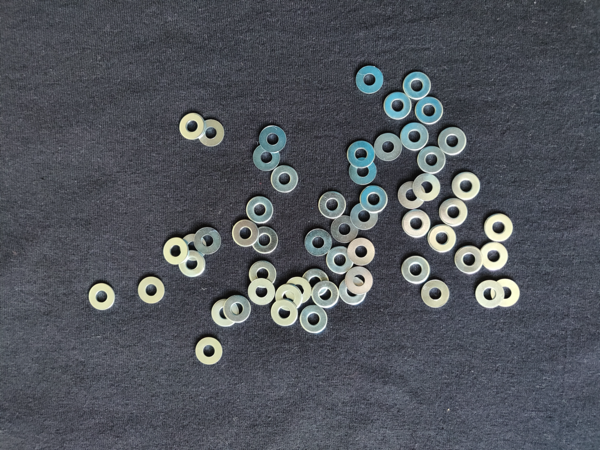circle: (351, 63, 385, 94), (483, 212, 515, 244), (269, 163, 300, 195), (401, 254, 433, 285), (250, 142, 283, 172), (372, 132, 405, 162), (383, 92, 414, 123), (193, 334, 223, 366), (401, 71, 433, 101), (209, 298, 239, 329), (438, 127, 468, 158), (417, 146, 448, 176), (451, 173, 482, 203), (398, 180, 428, 211), (401, 209, 431, 240), (426, 224, 457, 254), (478, 242, 509, 272), (475, 280, 506, 310), (421, 280, 452, 310), (232, 218, 261, 250), (455, 245, 484, 277), (86, 282, 116, 312), (270, 299, 300, 329), (138, 276, 167, 307), (401, 121, 430, 152), (331, 214, 360, 245), (305, 228, 336, 257), (338, 277, 369, 306), (194, 224, 222, 256), (257, 126, 291, 152), (246, 196, 276, 225), (248, 259, 277, 289), (347, 140, 377, 169), (414, 95, 443, 125), (438, 199, 468, 228), (198, 117, 226, 148), (360, 184, 389, 213), (326, 245, 355, 274), (347, 238, 376, 267), (493, 280, 522, 309), (178, 233, 206, 263), (223, 294, 251, 324), (348, 158, 378, 186), (312, 281, 340, 311), (251, 226, 279, 255), (246, 278, 275, 306), (413, 173, 441, 202), (319, 191, 348, 219), (349, 203, 378, 231), (300, 268, 329, 296), (275, 284, 304, 312), (177, 111, 205, 139), (346, 267, 374, 295), (301, 306, 329, 334), (285, 276, 313, 304), (178, 251, 208, 277), (163, 237, 188, 266)
